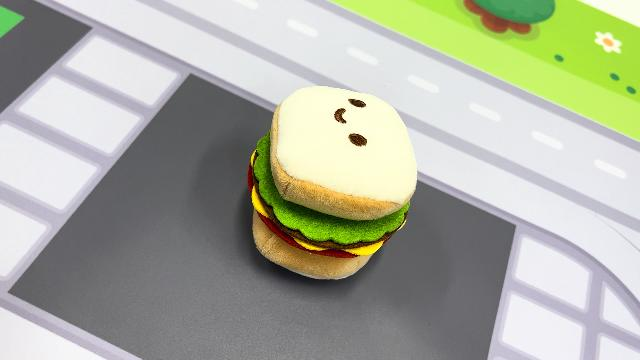sandwich: (244, 83, 420, 281)
